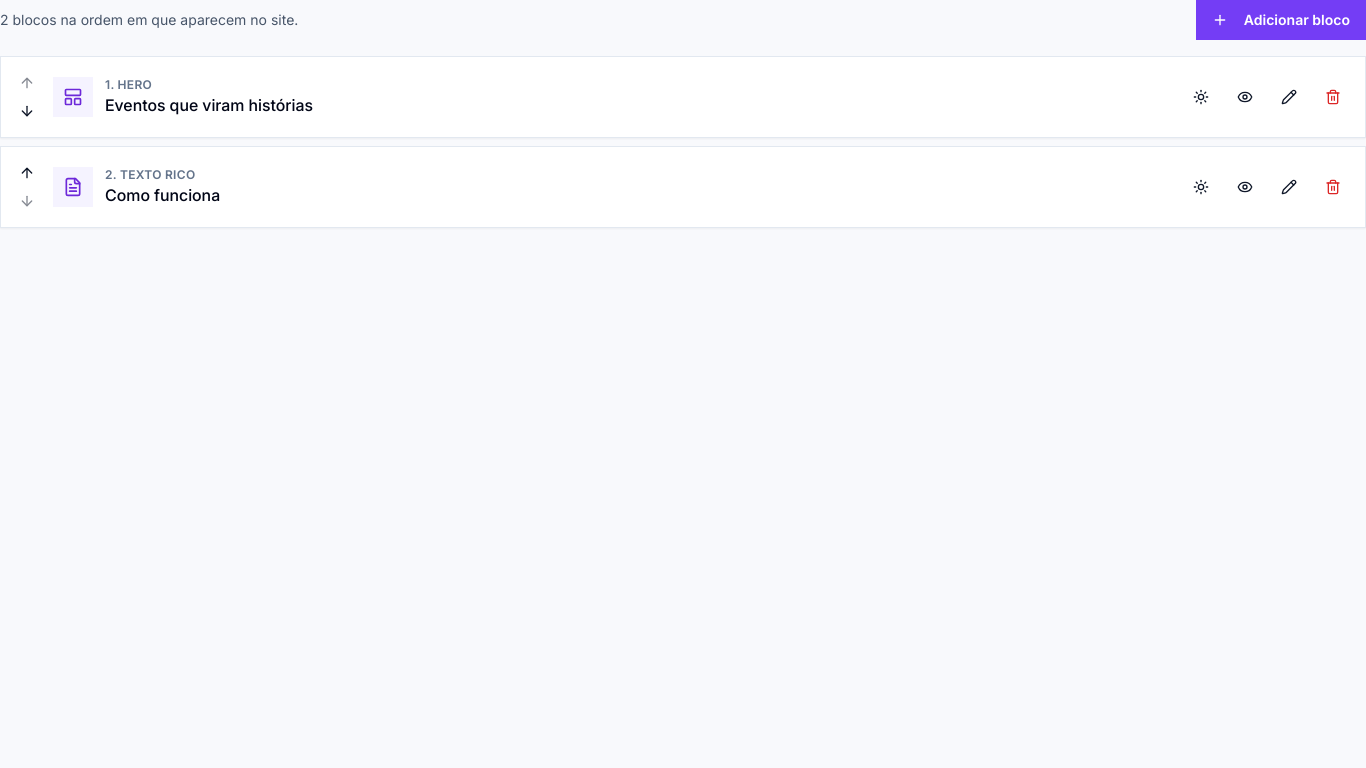
Test: BlockBuilder › offers the seven block types and opens the matching form when one is picked
Click the button named "adicionar bloco" at (1281, 20), box [1196,0,1365,40]
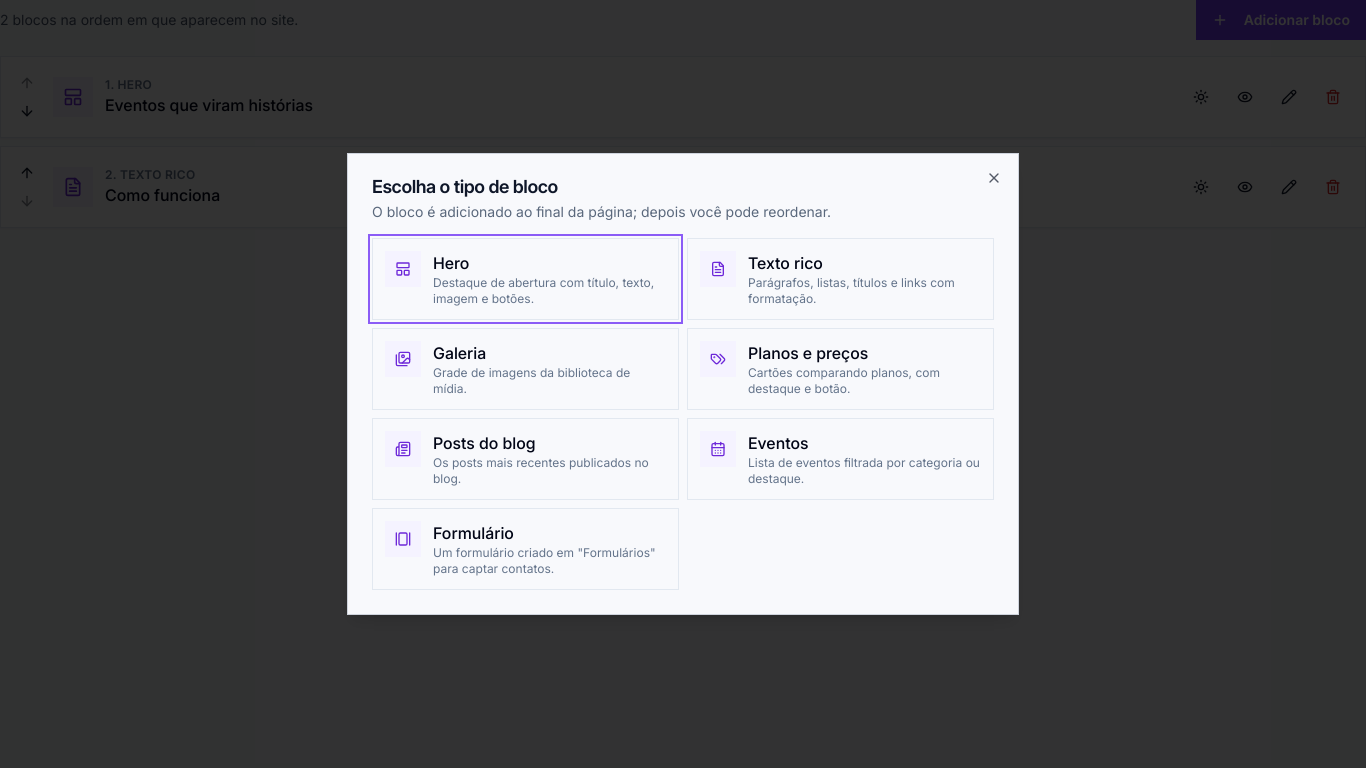
Click the button "Texto rico" at (840, 279), box [687,238,994,320]
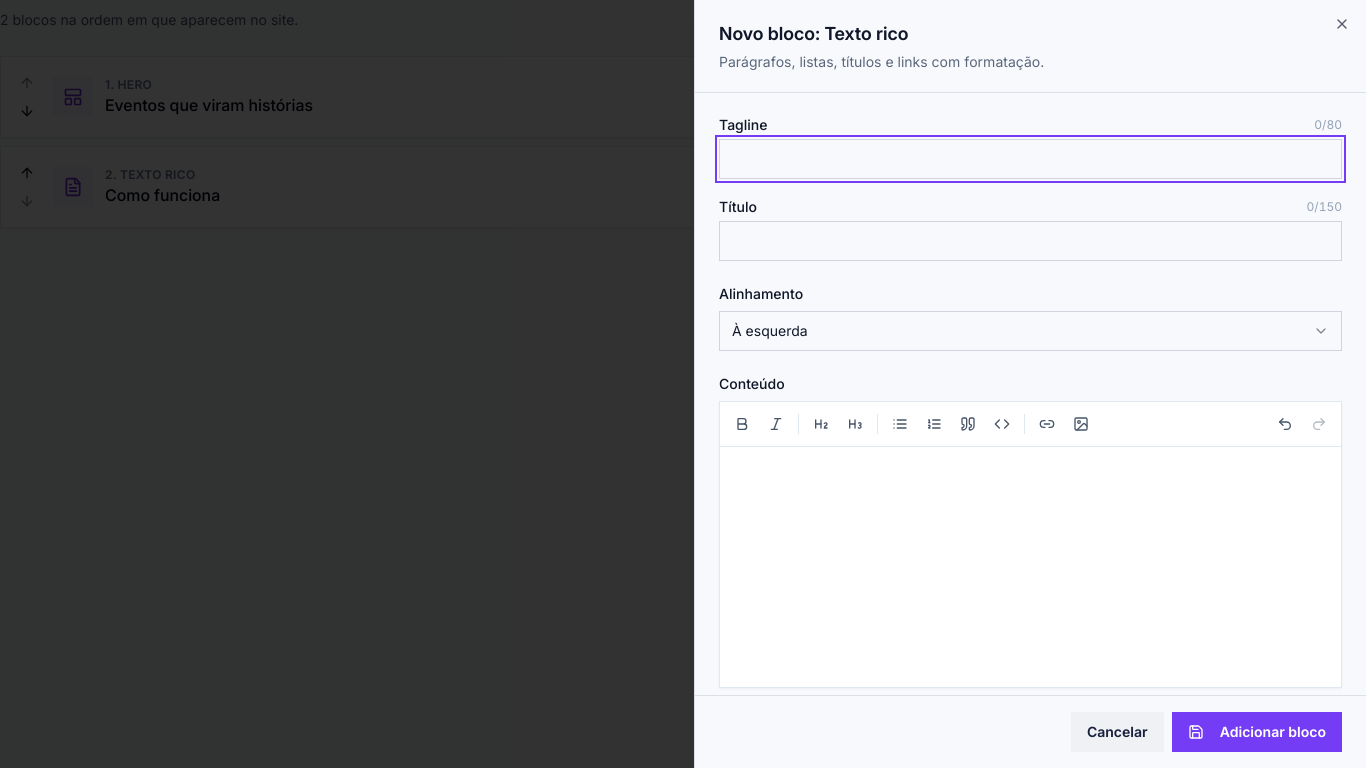
Expected: the heading "Novo bloco: Texto rico" is shown, [719,23,908,44]
